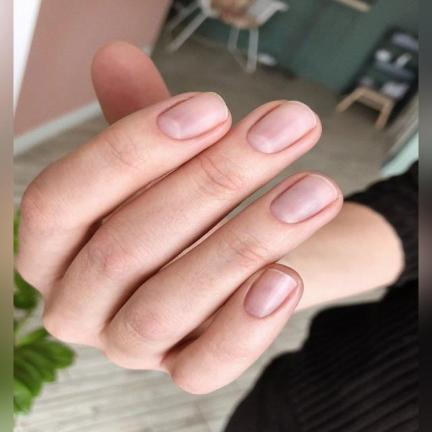Nail: (247, 100, 317, 154), (157, 91, 228, 140), (270, 174, 336, 223), (244, 268, 298, 318)
